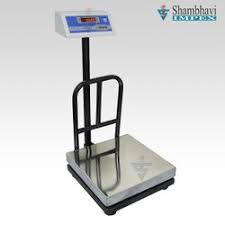Industrial Scale: (54, 10, 178, 216)
